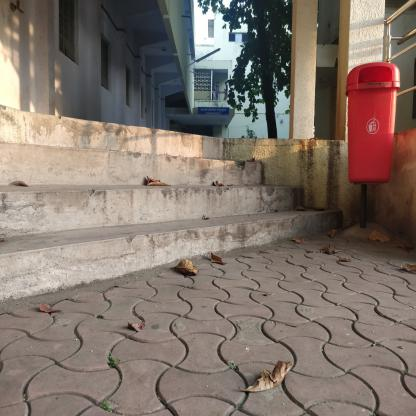stairs: (26, 165, 252, 295)
